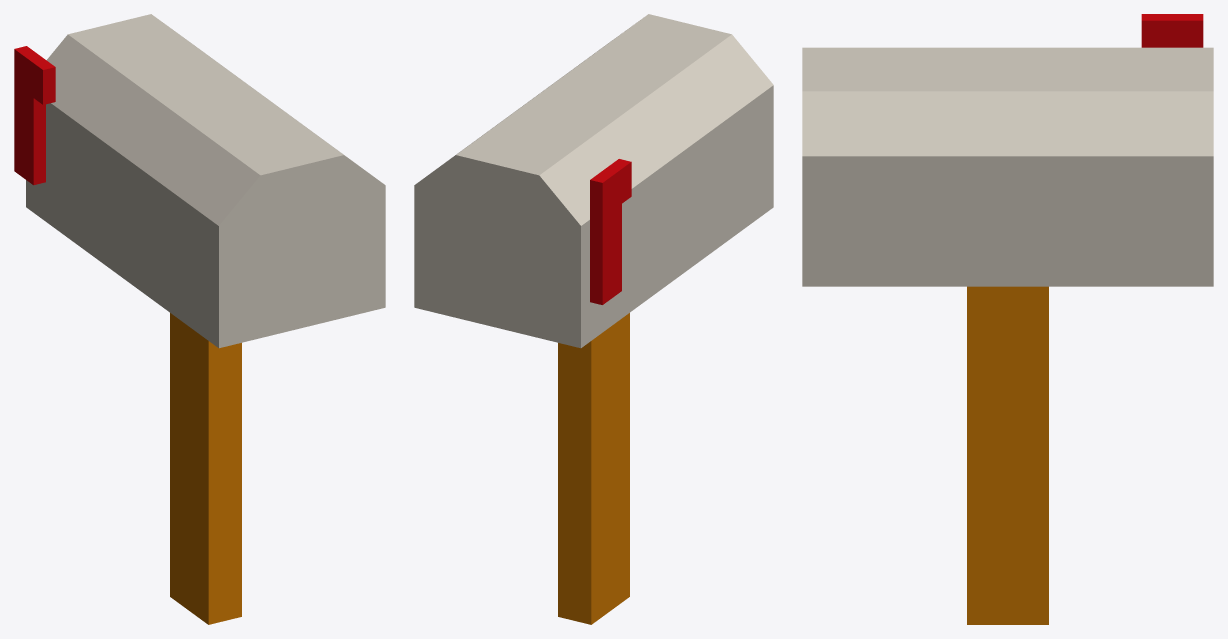
Rendered from CAIXA_DE_CORREIO.fbx.
3 views of the same model, side by side, from view 1: azimuth 30°, elevation 25°; view 2: azimuth 150°, elevation 25°; view 3: azimuth 270°, elevation 25° (orthographic). The views are drawn at different scales.
Visible parts, largest first — view 1: Cube, Cube.001; view 2: Cube, Cube.001; view 3: Cube, Cube.001.
Part boxes in pixels (x1=…): Cube: x1=26, y1=14, x2=385, y2=624; Cube.001: x1=14, y1=46, x2=55, y2=185; Cube: x1=414, y1=14, x2=773, y2=624; Cube.001: x1=590, y1=159, x2=631, y2=304; Cube: x1=802, y1=47, x2=1213, y2=624; Cube.001: x1=1141, y1=14, x2=1203, y2=47.
Size of the model in its own units: 0.44 by 1.18 by 0.8.
